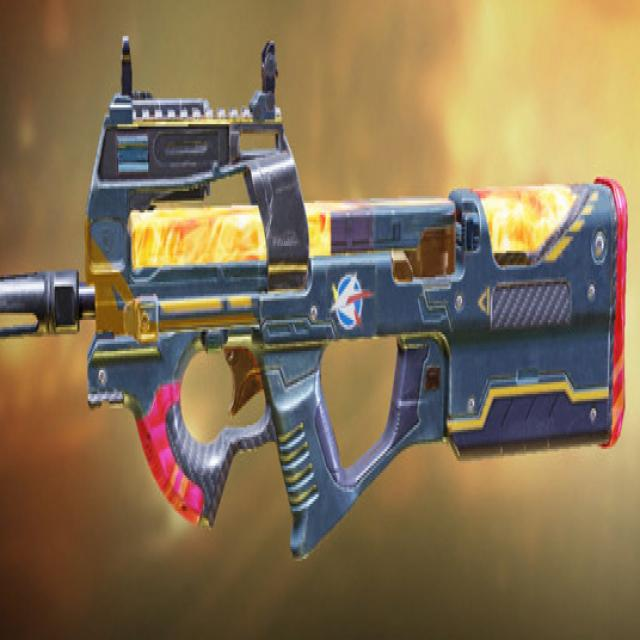Weapon: (0, 38, 627, 554)
